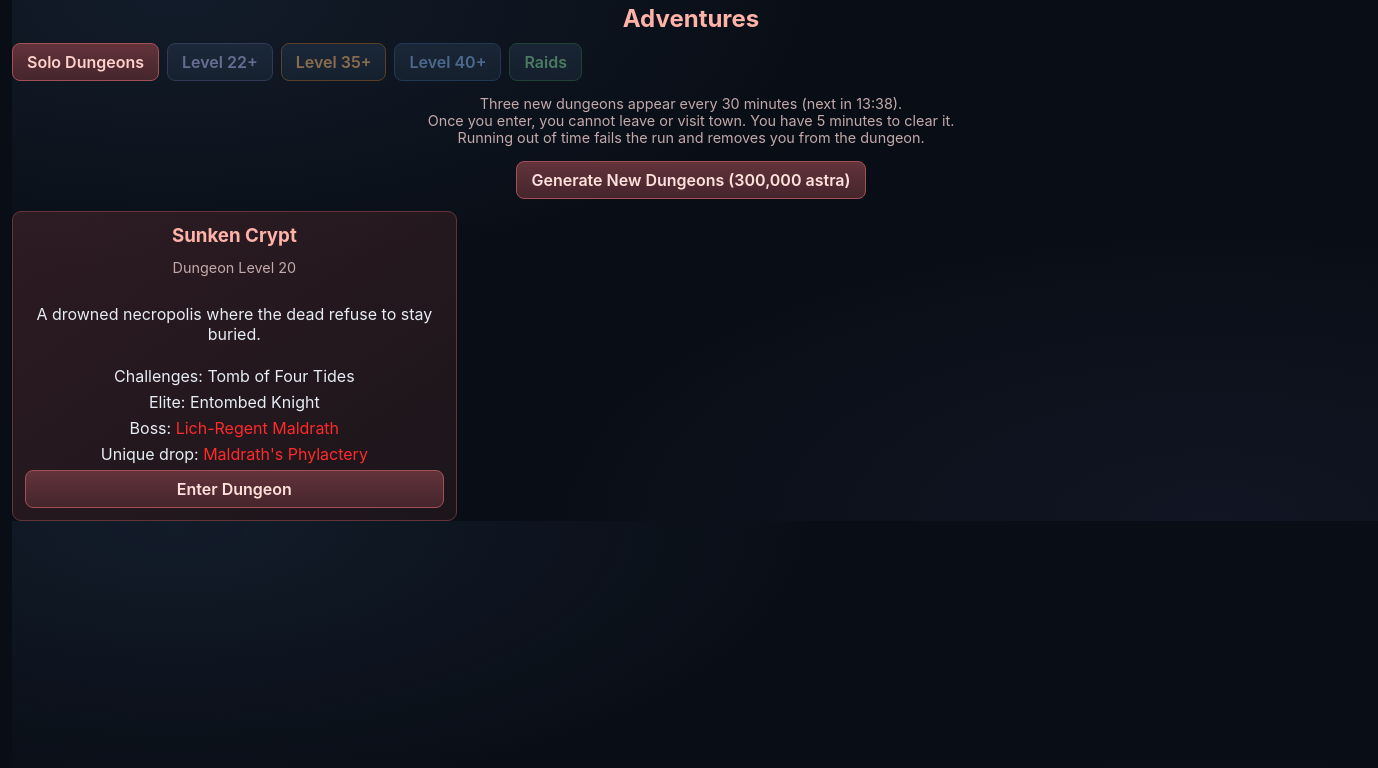
it: failed dungeon reroll displays the reason
Click the button "Generate New Dungeons (300,000 astra)" at (691, 180), box [516,161,866,199]
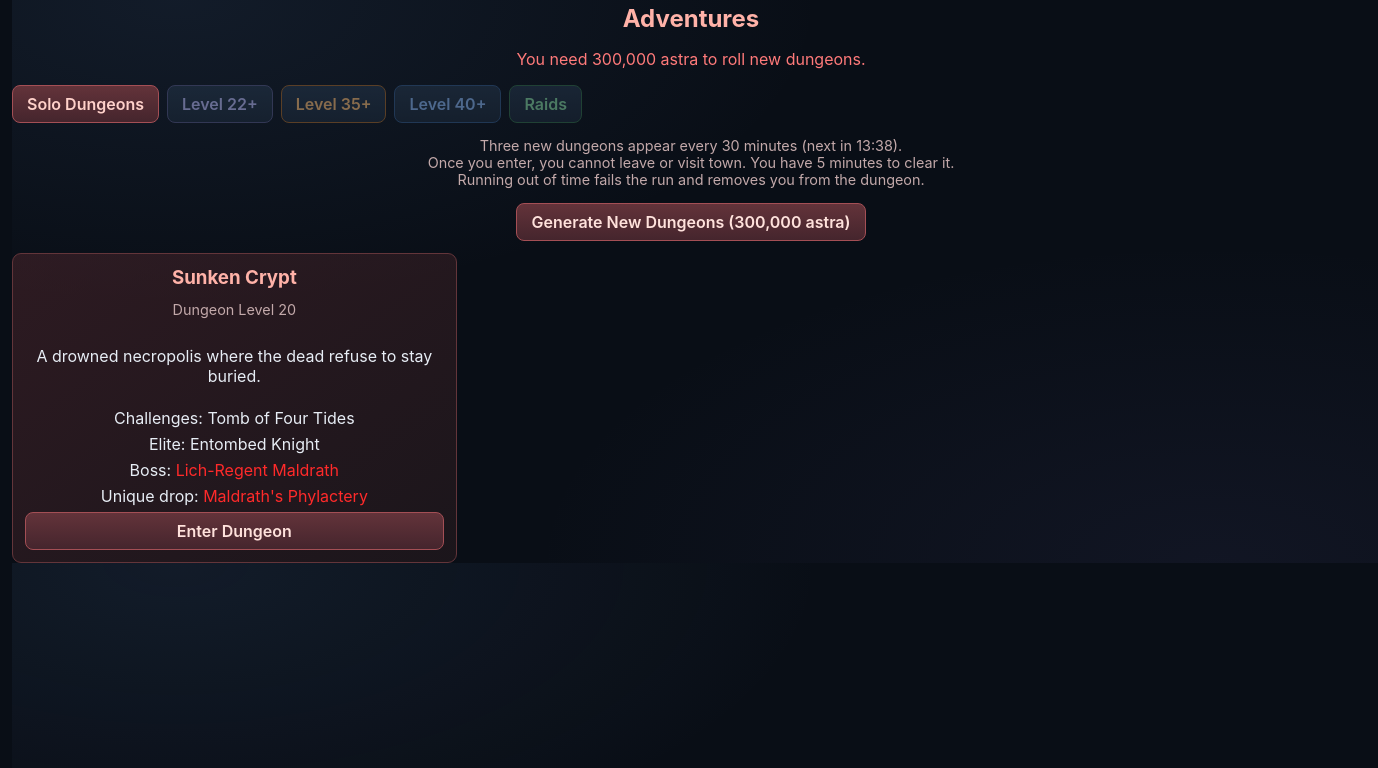
Expected: the message shows "You need 300,000 astra", [516,49,866,69]
